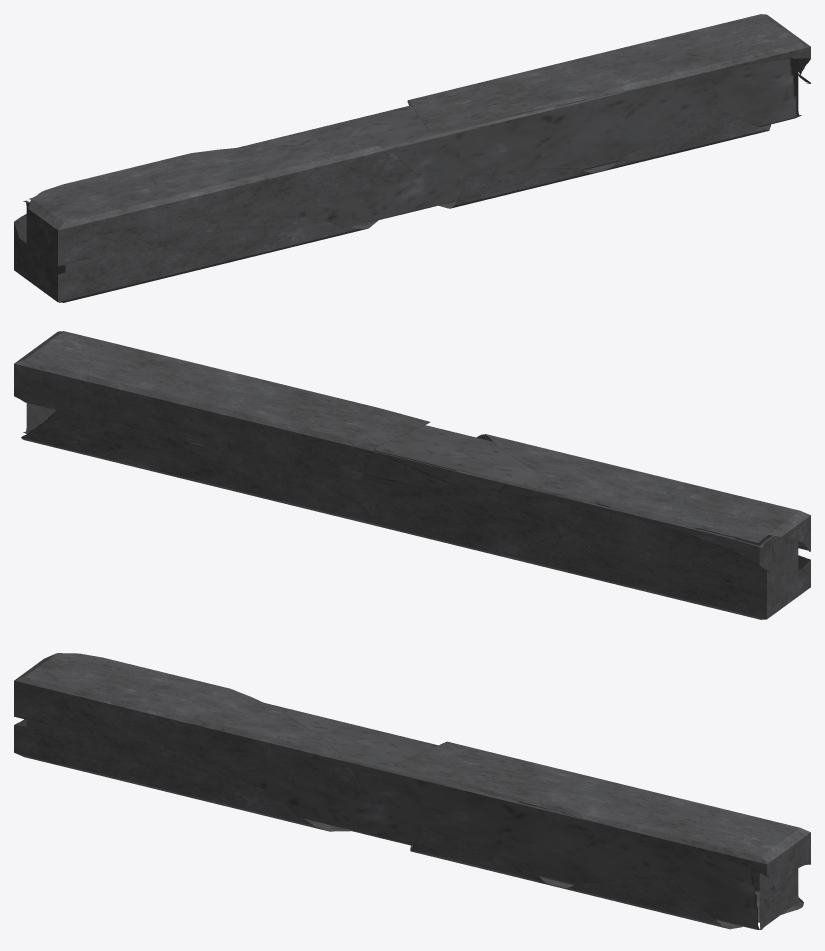
File: border.fbx
3 renders of one model, top to bottom at view 1: azimuth 30°, elevation 25°; view 2: azimuth 150°, elevation 25°; view 3: azimuth 330°, elevation 25°, orthographic.
Visible parts, largest first — view 1: border; view 2: border; view 3: border.
Part boxes in pixels (left/top/right/bottom): border: left=14, top=14, right=810, bottom=302; border: left=14, top=331, right=810, bottom=619; border: left=14, top=653, right=810, bottom=929.
Size of the model in its own units: 181 by 18.42 by 18.28.
